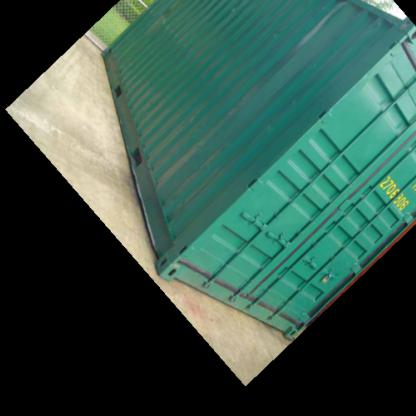Damage: (138, 112, 234, 198), (283, 0, 352, 53), (142, 3, 192, 43)
